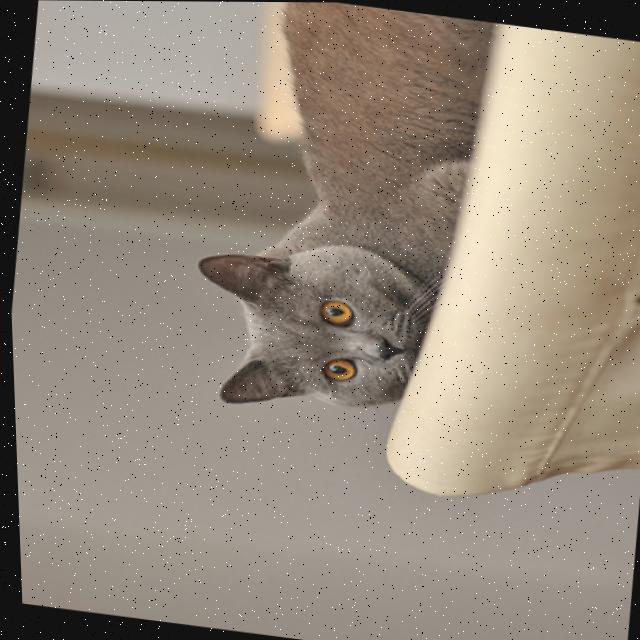British Shorthair: (164, 1, 516, 438)
